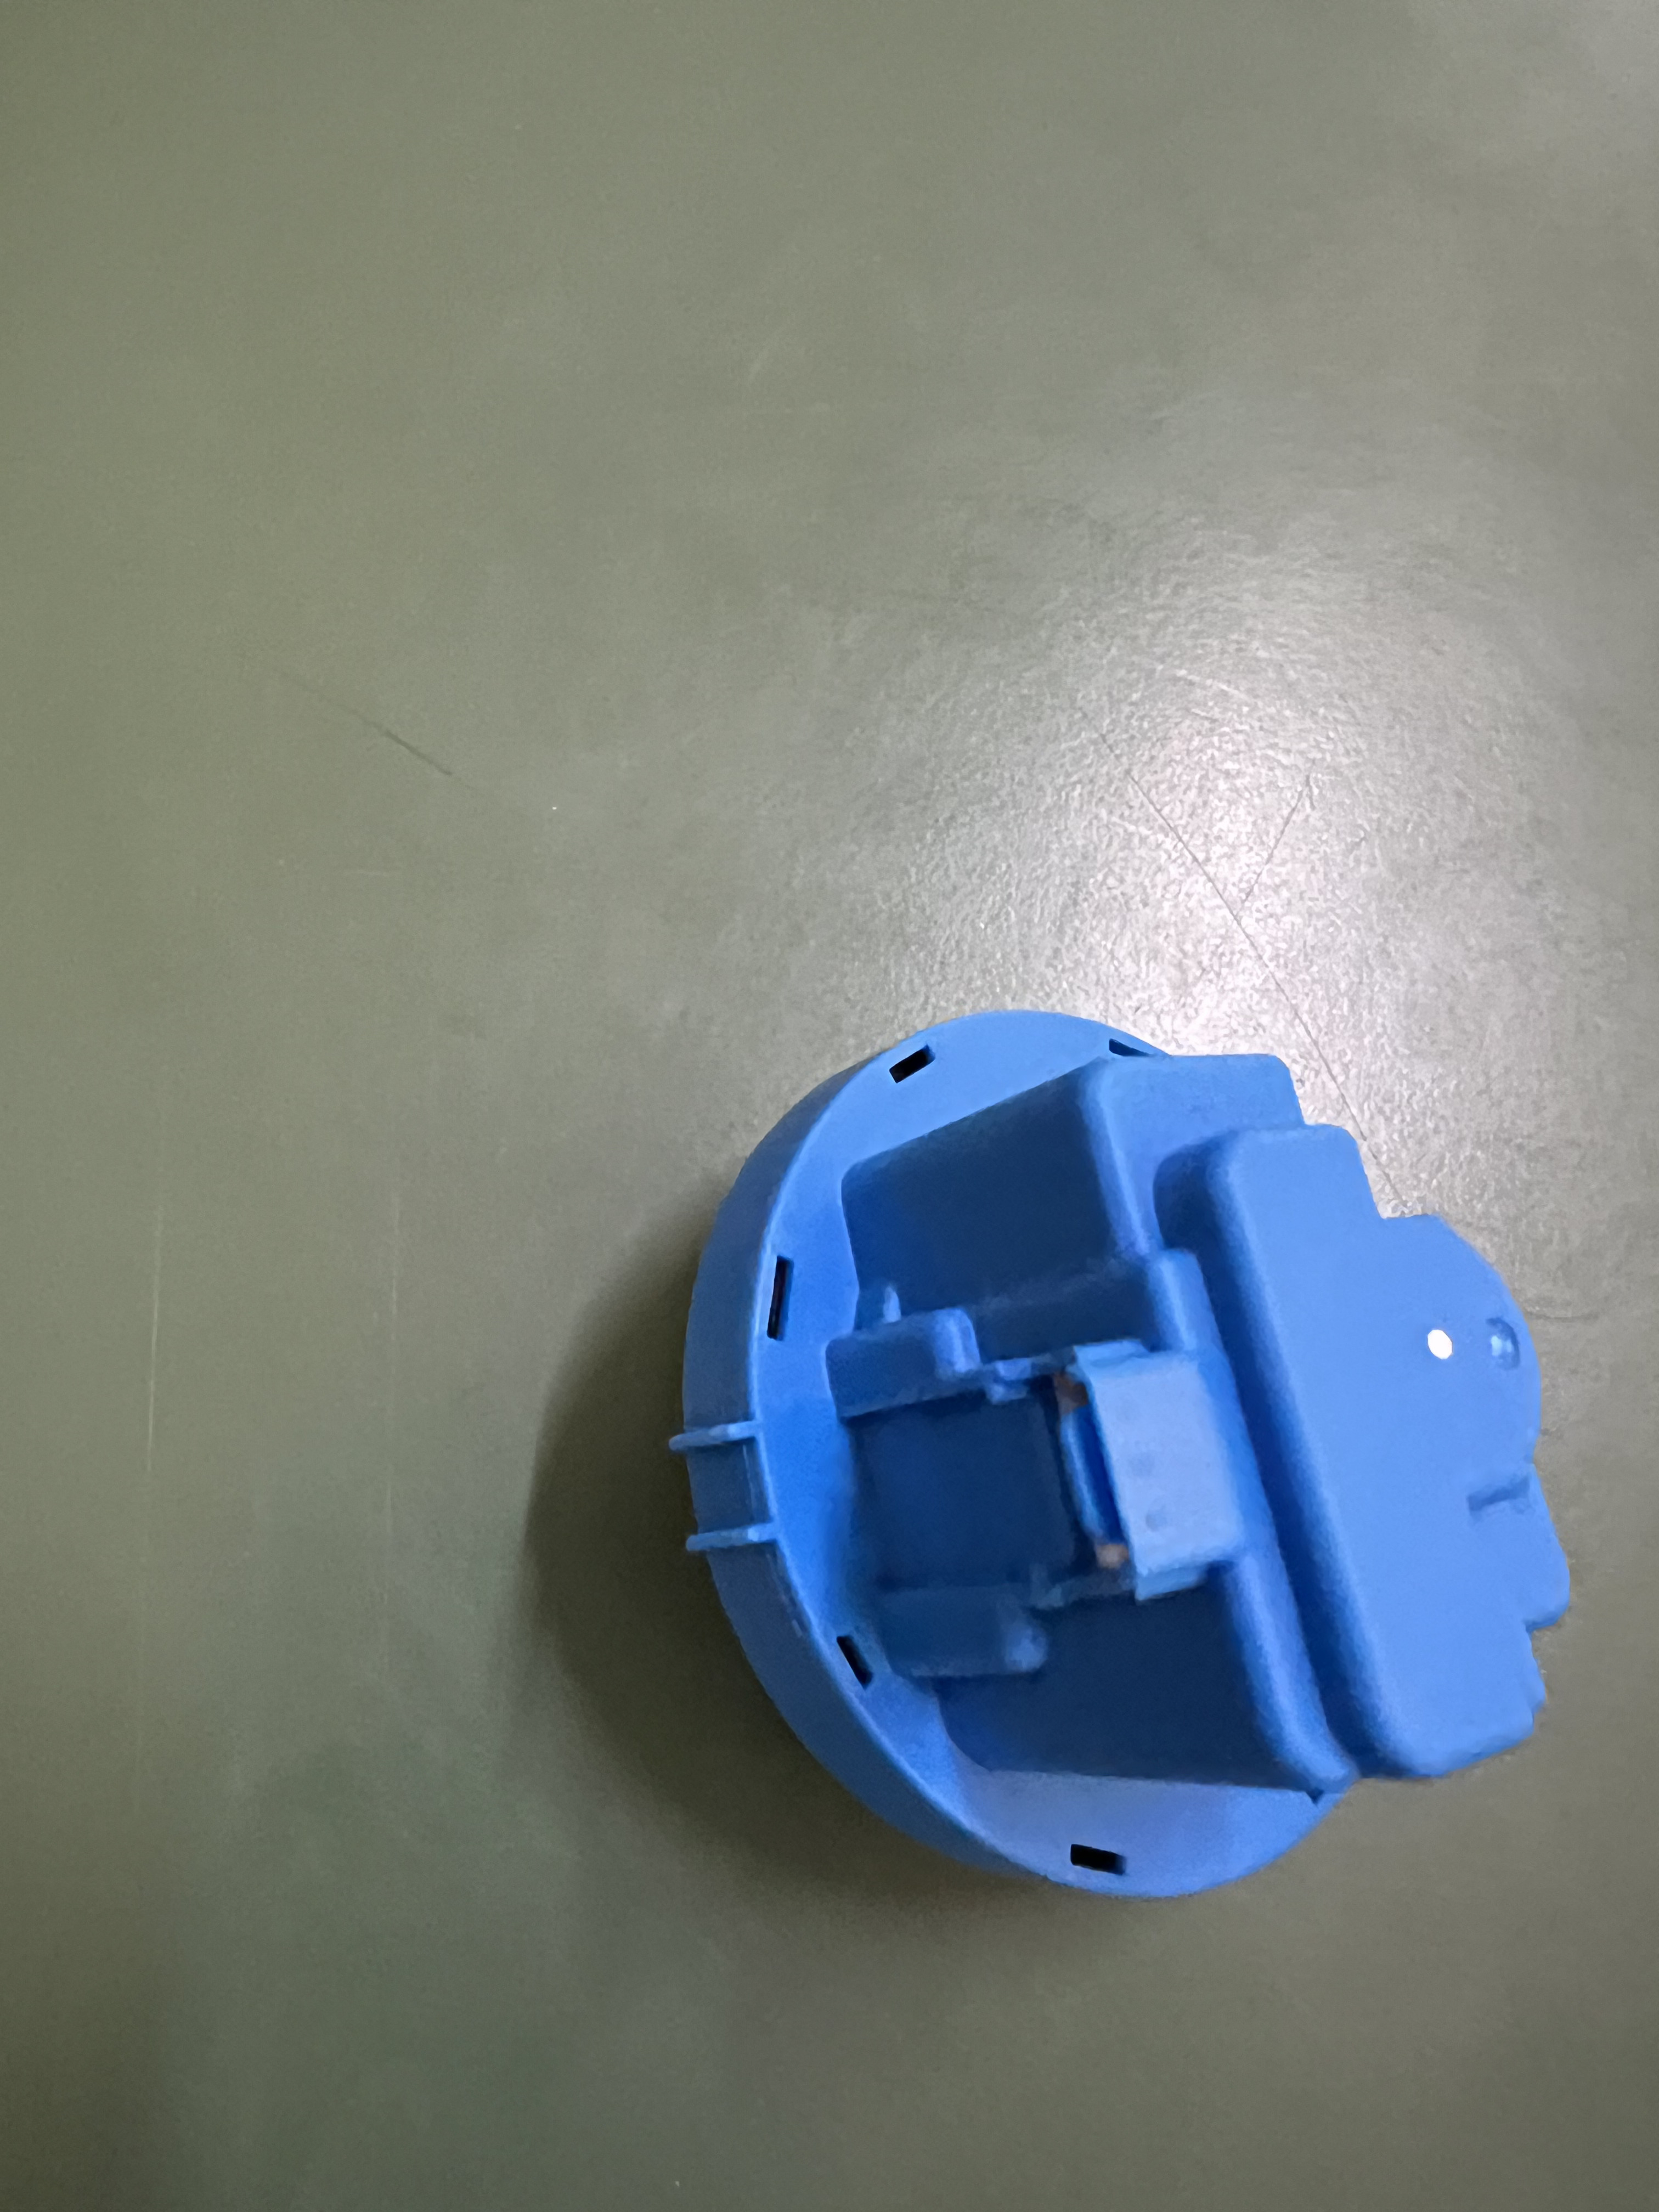voltas_beko_pressure_switch: (647, 975, 1600, 1916)
